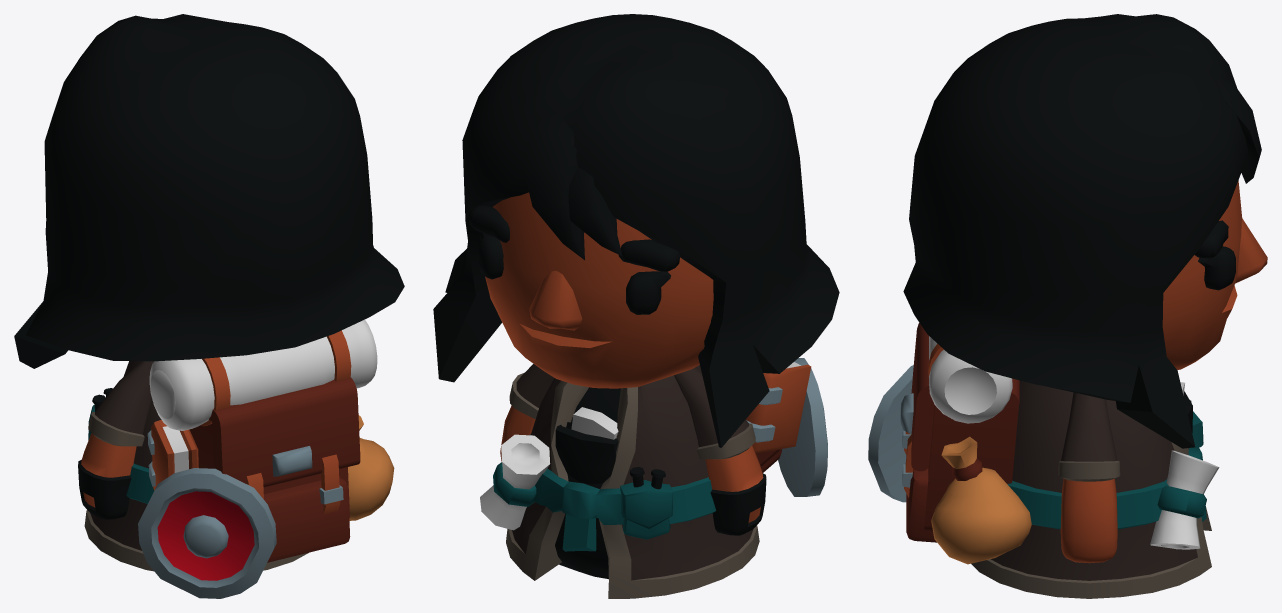
Rendered from Char_Jenny.fbx.
The picture shows the model from 3 angles, left to right: view 1: azimuth 30°, elevation 25°; view 2: azimuth 150°, elevation 25°; view 3: azimuth 270°, elevation 25°; orthographic projection. The views are drawn at different scales.
Parts seen in each view (by area): view 1: Head, Backpack, ArmLeft, Body; view 2: Head, Body, Backpack, ArmLeft, ArmRight; view 3: Head, Body, Backpack, ArmRight.
Part boxes in pixels (left/top/right/bottom): Head: left=14, top=14, right=404, bottom=368; Backpack: left=138, top=319, right=394, bottom=598; ArmLeft: left=78, top=361, right=153, bottom=519; Body: left=84, top=361, right=308, bottom=571; Head: left=433, top=14, right=839, bottom=447; Body: left=480, top=365, right=759, bottom=598; Backpack: left=746, top=358, right=827, bottom=496; ArmLeft: left=674, top=367, right=766, bottom=535; ArmRight: left=500, top=364, right=554, bottom=461; Head: left=903, top=14, right=1267, bottom=448; Body: left=971, top=380, right=1219, bottom=598; Backpack: left=868, top=323, right=1031, bottom=564; ArmRight: left=1058, top=392, right=1120, bottom=563.
Size of the model in its own units: 51.74 by 50.11 by 71.01.
